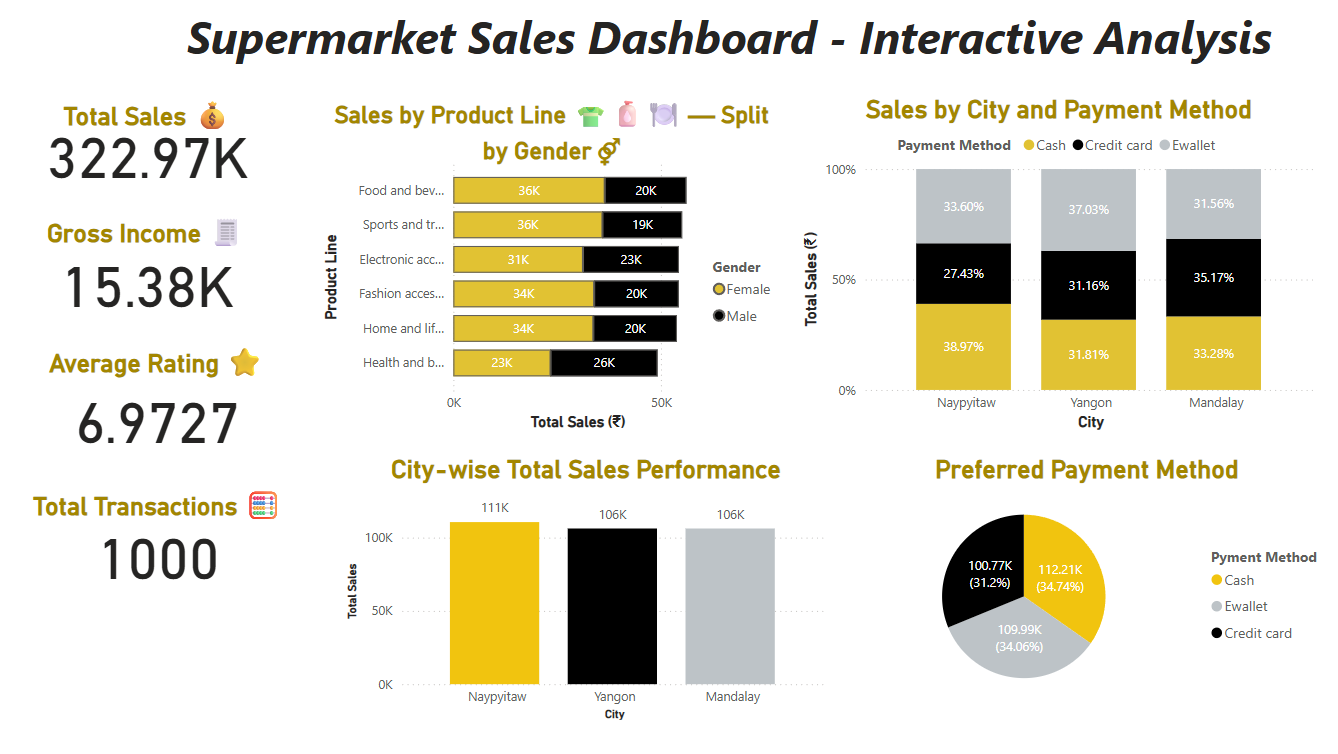

The dashboard page shown, as its layout file describes it:
{"tool":"powerbi","page":{"name":"Dashboard 1","canvas":[1280,720],"ordinal":0},"visuals":[{"type":"textbox","box":[10,0,280,280],"z":0},{"type":"textbox","box":[172.6,0,1056.9,69.7],"z":1000},{"type":"card","title":"Total Sales 💰","fields":{"Values":["Sum(Cleaned_Supermarket_Data.total_sales)"]},"box":[31.8,89.3,218,99.9],"z":2000},{"type":"card","title":"Gross Income 🧾","fields":{"Values":["Sum(Cleaned_Supermarket_Data.gross_income)"]},"box":[31.8,201.4,216.5,101.5],"z":3000},{"type":"card","title":"Average Rating ⭐","fields":{"Values":["Avg(Cleaned_Supermarket_Data.rating)"]},"box":[37.9,325.6,224.1,112.1],"z":4000},{"type":"card","title":"Total Transactions 🧮","fields":{"Values":["CountNonNull(Cleaned_Supermarket_Data.invoice_id)"]},"box":[19.7,461.8,260.4,99.9],"z":5000},{"type":"barChart","title":"Sales by Product Line 👕🧴🍽️ — Split by Gender ⚤","fields":{"Series":["Cleaned_Supermarket_Data.gender"],"Category":["Cleaned_Supermarket_Data.product_line"],"Y":["Sum(Cleaned_Supermarket_Data.total_sales)"]},"box":[301.3,89.3,448.2,324],"z":6000},{"type":"hundredPercentStackedColumnChart","title":"Sales by City and Payment Method","fields":{"Category":["Cleaned_Supermarket_Data.city"],"Y":["Sum(Cleaned_Supermarket_Data.total_sales)"],"Series":["Cleaned_Supermarket_Data.payment_method"]},"box":[758.6,89.3,499.7,324],"z":7000},{"type":"clusteredColumnChart","title":"City-wise Total Sales Performance","fields":{"Category":["Cleaned_Supermarket_Data.city"],"Y":["Sum(Cleaned_Supermarket_Data.total_sales)"]},"box":[324,433.1,467.9,257.4],"z":8000},{"type":"pieChart","title":"Preferred Payment Method","fields":{"Category":["Cleaned_Supermarket_Data.payment_method"],"Y":["Sum(Cleaned_Supermarket_Data.total_sales)"]},"box":[791.9,433.1,487.6,242.3],"z":8001}]}

Visuals, with their boxes in screenshot pixels (x1, y1, x2, y2), scaled from the page's 1280x720 canvas onto the 1338x754 screenshot:
textbox: [10, 0, 303, 293]
textbox: [180, 0, 1285, 73]
"Total Sales 💰" card: [33, 94, 261, 198]
"Gross Income 🧾" card: [33, 211, 260, 317]
"Average Rating ⭐" card: [40, 341, 274, 458]
"Total Transactions 🧮" card: [21, 484, 293, 588]
"Sales by Product Line 👕🧴🍽️ — Split by Gender ⚤" barChart: [315, 94, 783, 433]
"Sales by City and Payment Method" hundredPercentStackedColumnChart: [793, 94, 1315, 433]
"City-wise Total Sales Performance" clusteredColumnChart: [339, 454, 828, 723]
"Preferred Payment Method" pieChart: [828, 454, 1337, 707]
